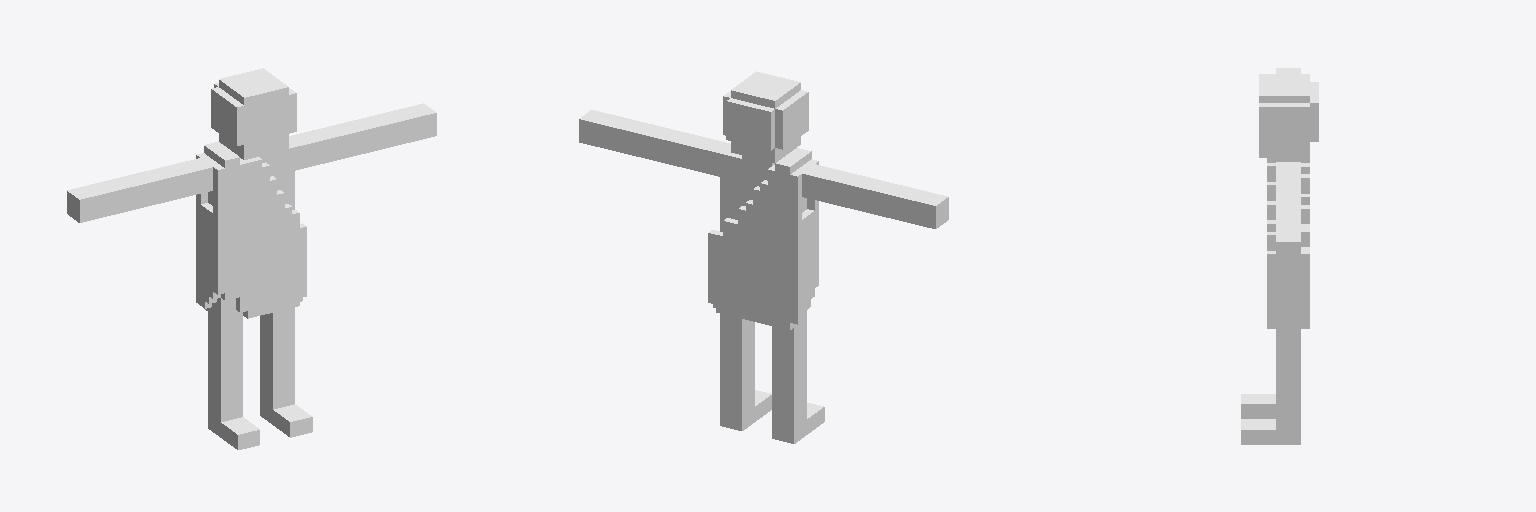
The model's file is char-toga.obj.
The picture shows the model from 3 angles: view 1: azimuth 30°, elevation 25°; view 2: azimuth 150°, elevation 25°; view 3: azimuth 270°, elevation 25°; orthographic projection.
Parts seen in each view (by area): view 1: char-toga; view 2: char-toga; view 3: char-toga.
Boxes of the visible parts, box(x1,y1,x2,y2) form: char-toga: box(67, 68, 436, 449); char-toga: box(579, 71, 948, 443); char-toga: box(1241, 68, 1318, 444).
Size of the model in its own units: 48 by 44 by 9.